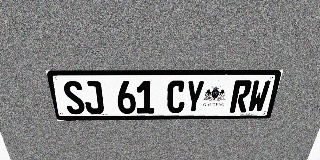1: (136, 81, 154, 114)
6: (116, 81, 136, 114)
C: (167, 80, 186, 113)
J: (82, 81, 104, 114)
R: (229, 80, 253, 113)
S: (62, 81, 86, 114)
W: (247, 80, 271, 112)
Y: (184, 80, 205, 113)
